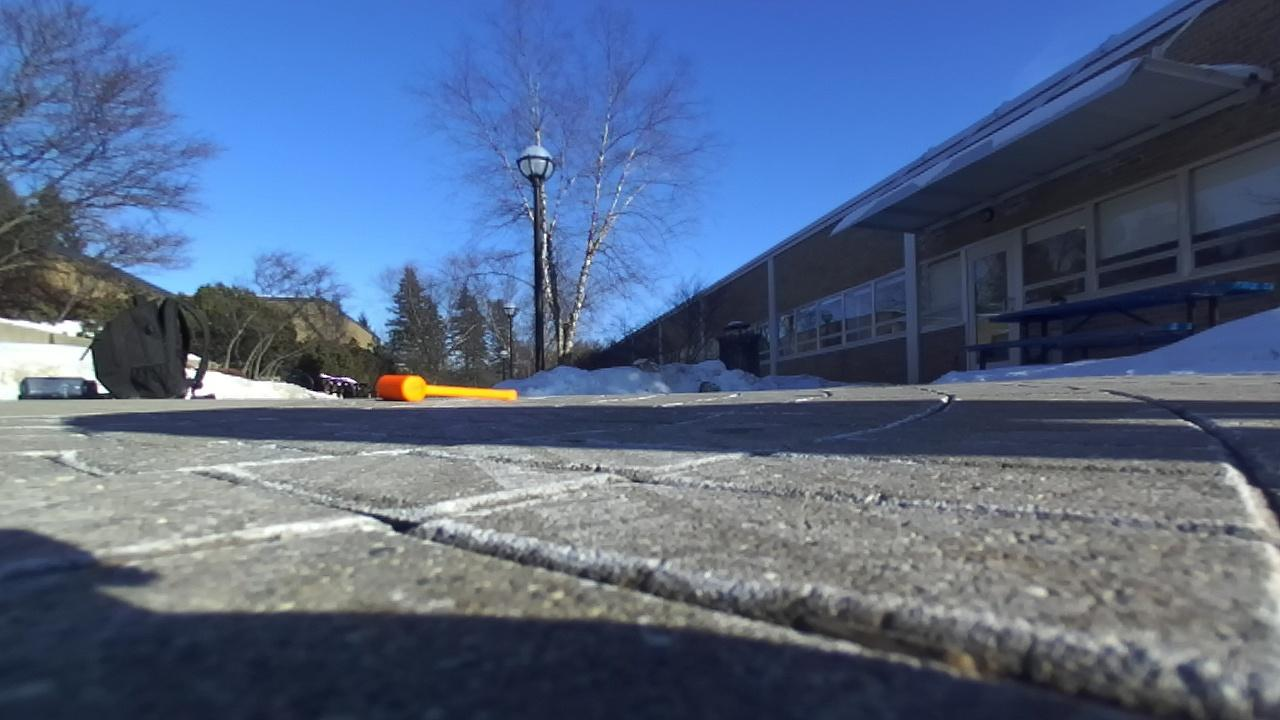mallet: (376, 375, 517, 401)
